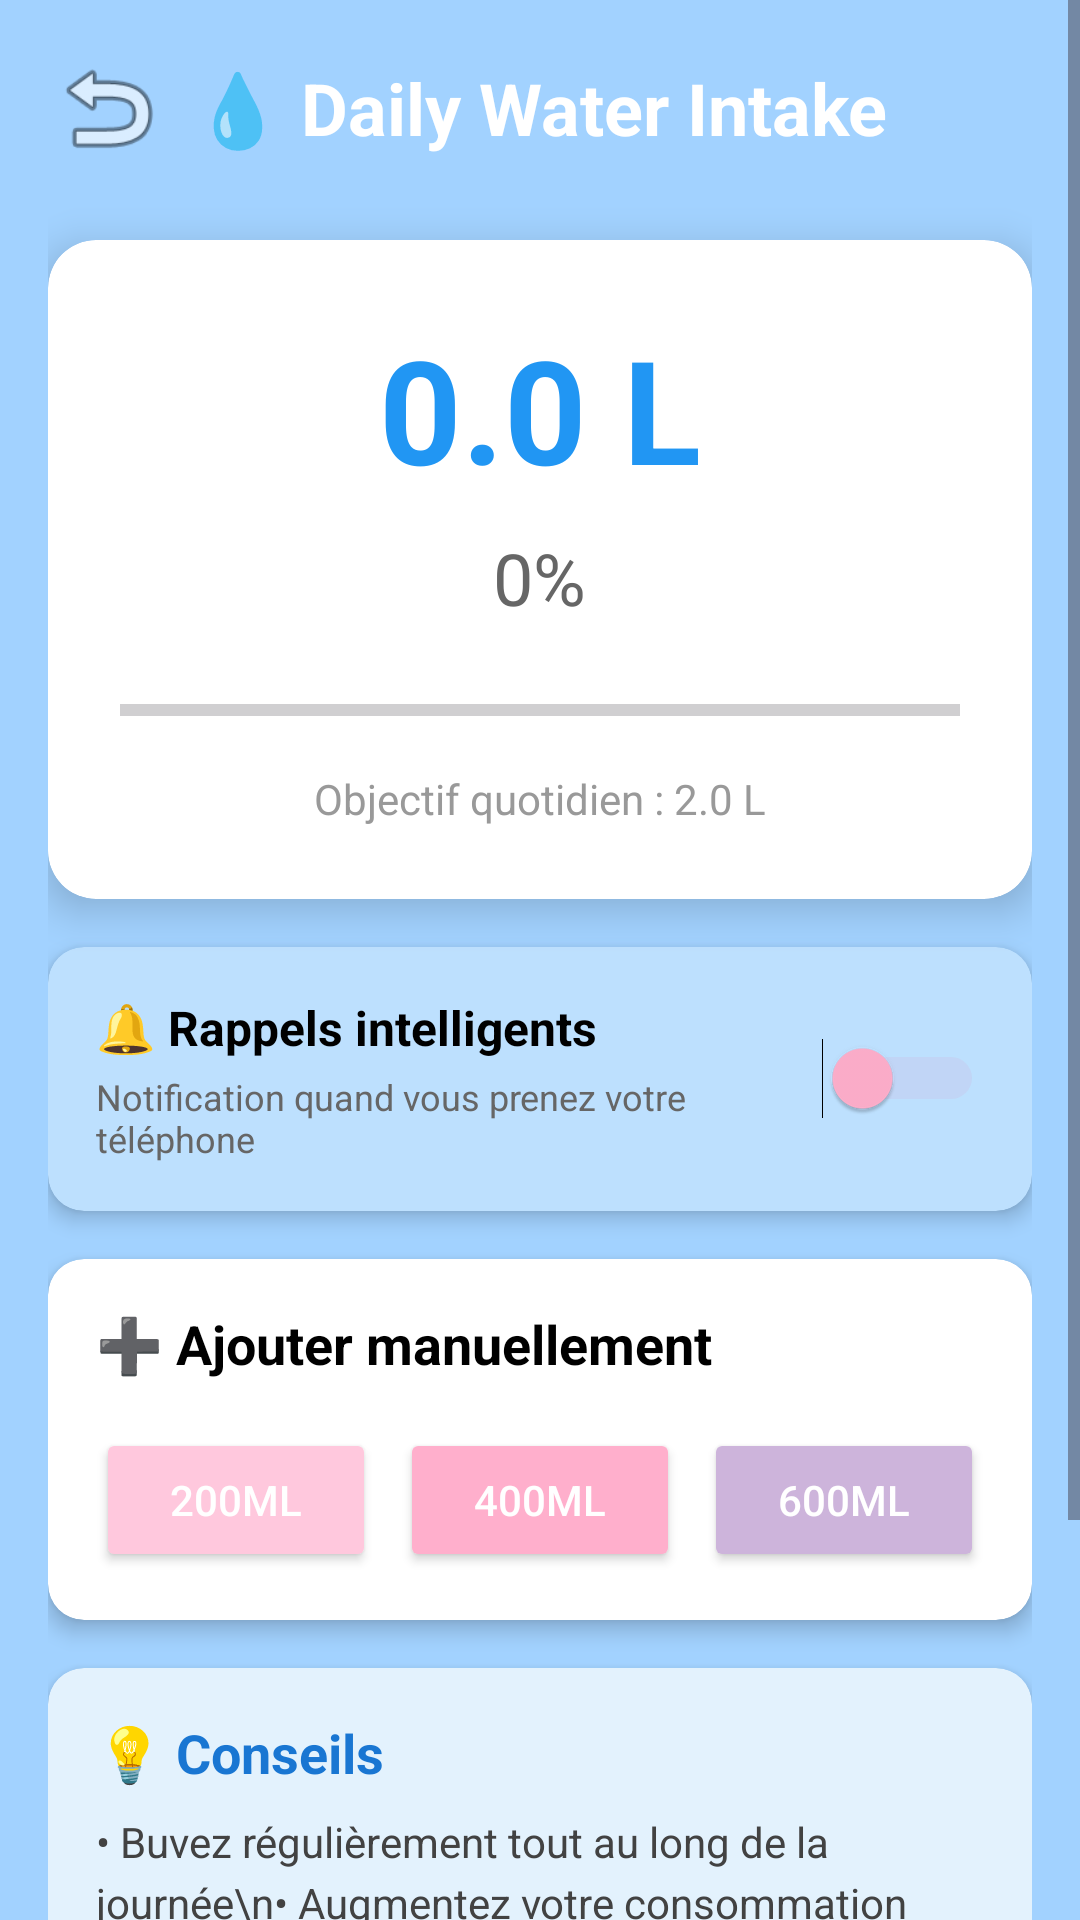

Where to tap for icons on this 1080px×1920px app screen, as (x,y):
Retour: (109,108)
